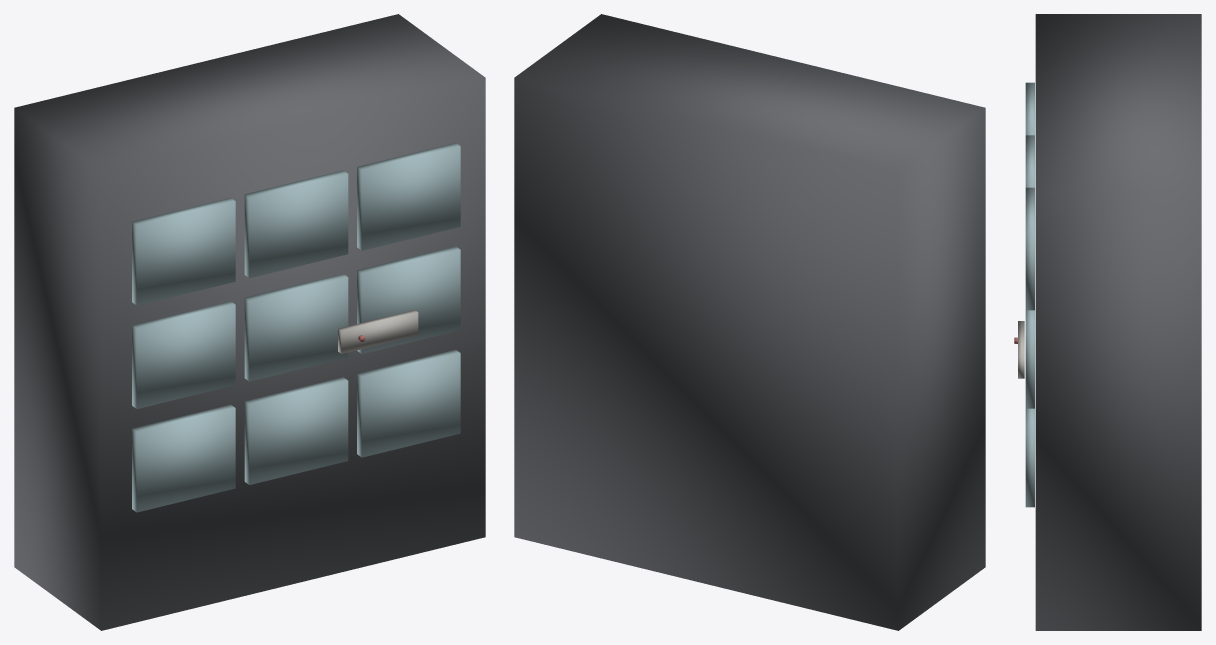
File: security_monitor_bank__deep.glb
3 views of the same model, side by side, from view 1: azimuth 30°, elevation 25°; view 2: azimuth 150°, elevation 25°; view 3: azimuth 270°, elevation 25° (orthographic). The views are drawn at different scales.
Parts seen in each view (by area): view 1: world; view 2: world; view 3: world.
Boxes of the visible parts, x1,y1,x2,y2 form: world: (14,14,485,630); world: (514,14,985,630); world: (1014,14,1201,630).
Size of the model in its own units: 1.4 by 1.6 by 0.6204.
